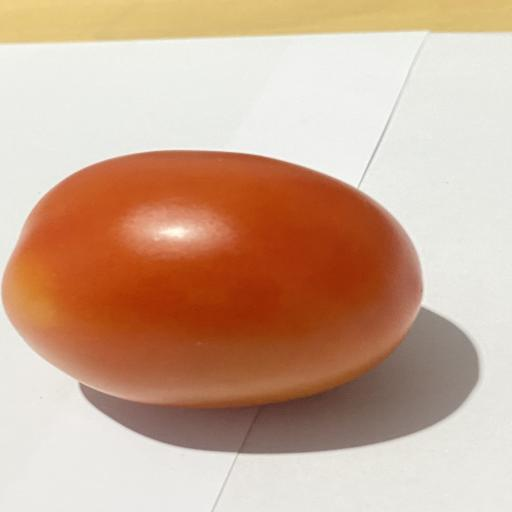ripe: (2, 150, 422, 408)
